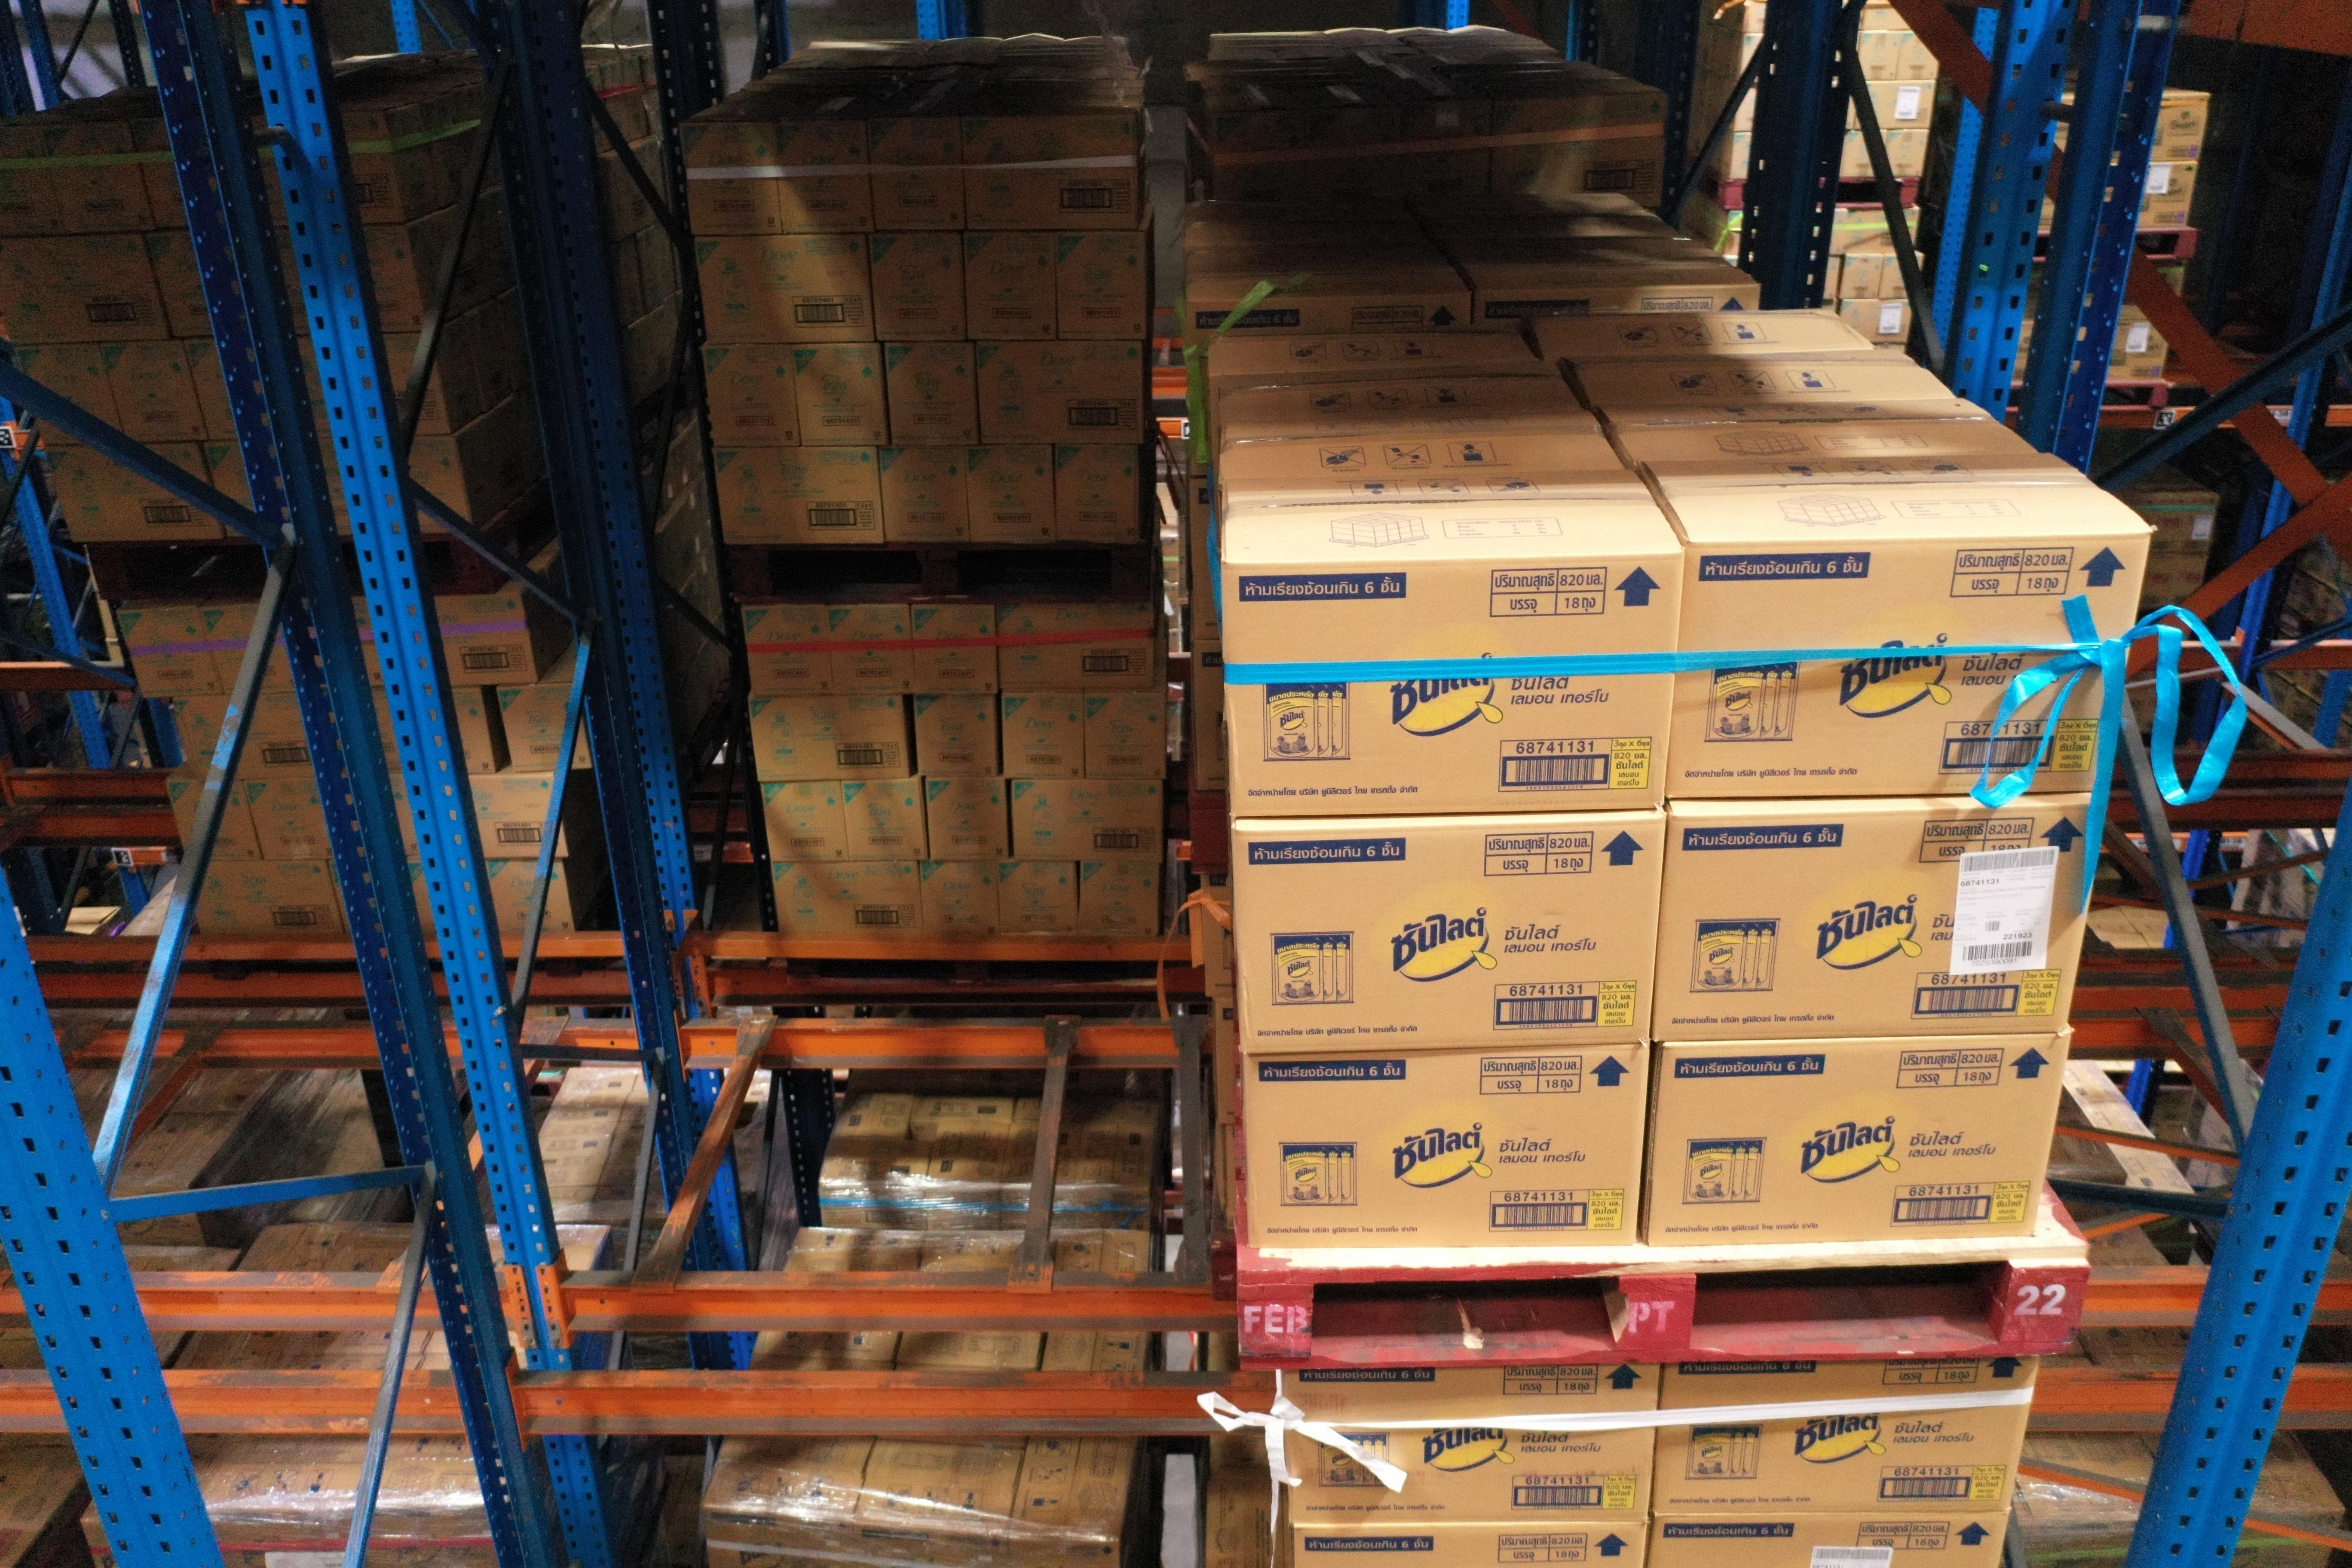-: (1666, 535, 2154, 801), (1221, 556, 1687, 819), (1650, 798, 2107, 1046), (1234, 814, 1664, 1057), (1643, 1029, 2074, 1249), (1241, 1043, 1652, 1253), (1274, 1363, 1661, 1524), (1652, 1354, 2039, 1515), (1648, 1515, 2011, 1568), (1291, 1521, 1650, 1568)
2: (964, 110, 1141, 234), (698, 233, 873, 346), (0, 234, 175, 345), (969, 341, 1150, 446), (44, 443, 222, 542), (714, 450, 884, 546), (997, 602, 1158, 698), (747, 689, 908, 784), (1011, 782, 1165, 868), (40, 122, 156, 234), (679, 114, 784, 234), (864, 112, 968, 234), (772, 859, 922, 941), (182, 863, 345, 938), (864, 234, 969, 348), (175, 695, 317, 779), (789, 339, 892, 451), (1048, 227, 1146, 343), (100, 341, 206, 446), (17, 345, 126, 448), (779, 119, 870, 238), (877, 343, 980, 446), (703, 341, 801, 450), (964, 234, 1057, 348), (115, 604, 226, 698), (430, 593, 541, 688), (1052, 441, 1143, 548), (737, 602, 836, 698), (875, 446, 976, 541), (968, 446, 1062, 544), (497, 682, 598, 773), (467, 775, 569, 861), (201, 604, 297, 693), (1076, 691, 1167, 784), (908, 605, 999, 696), (838, 775, 929, 864), (920, 775, 1008, 868), (829, 604, 915, 698), (913, 691, 999, 782), (168, 780, 262, 863), (0, 126, 68, 238), (920, 861, 1010, 945), (999, 691, 1081, 782), (243, 782, 336, 861), (761, 779, 845, 864), (485, 859, 576, 936), (999, 861, 1076, 943), (1074, 864, 1157, 941)
